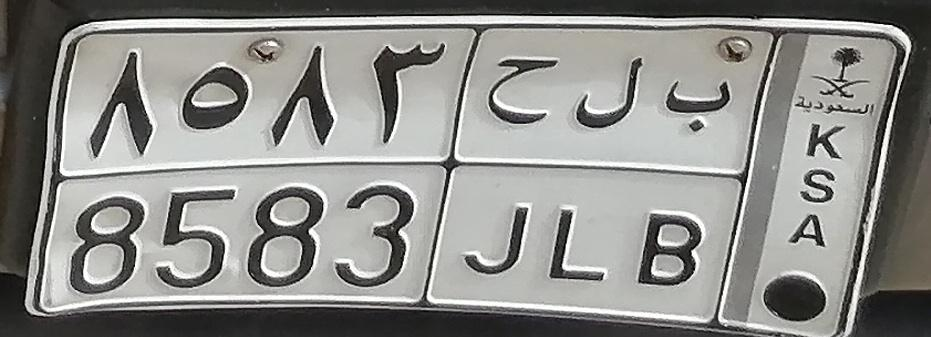3: (332, 41, 450, 289)
5: (155, 59, 252, 291)
8: (247, 43, 336, 291), (68, 47, 154, 295)
B: (638, 71, 738, 291)
J: (462, 47, 558, 277)
L: (552, 49, 644, 284)
